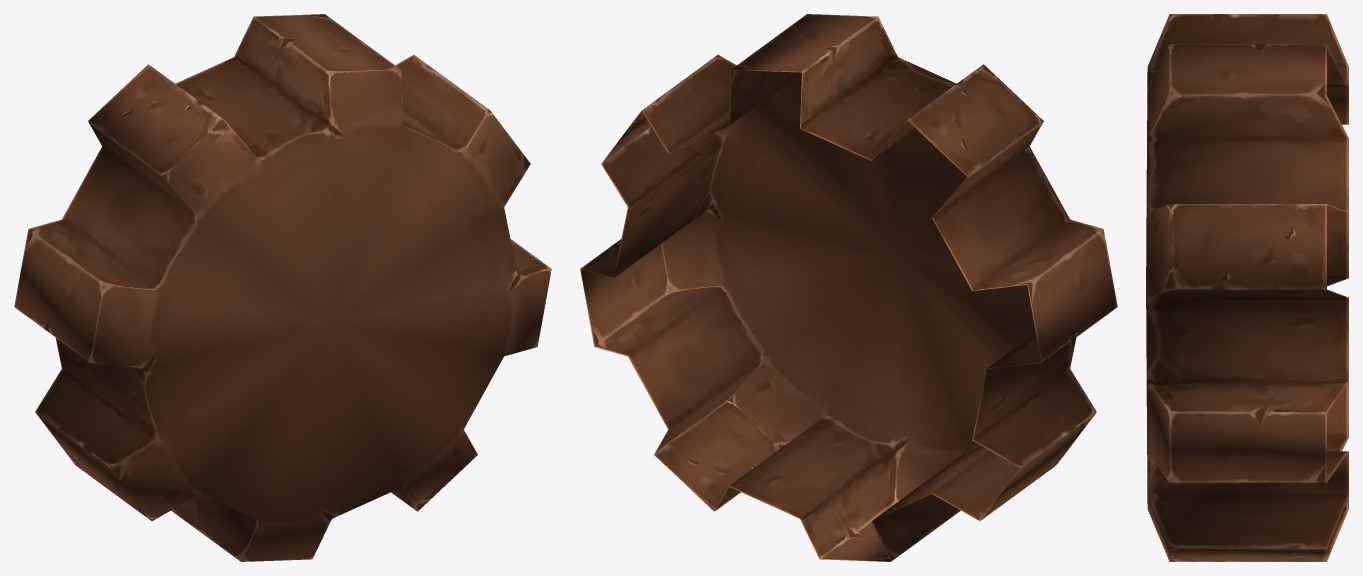
Rendered from sn_jiguan_chilun_001.FBX.
3 renders of one model, left to right at view 1: azimuth 30°, elevation 25°; view 2: azimuth 150°, elevation 25°; view 3: azimuth 270°, elevation 25°, orthographic. The views are drawn at different scales.
Parts seen in each view (by area): view 1: sn_jiguan_chilun_001; view 2: sn_jiguan_chilun_001; view 3: sn_jiguan_chilun_001.
Boxes of the visible parts, x1,y1,x2,y2 form: sn_jiguan_chilun_001: (14,14,551,561); sn_jiguan_chilun_001: (580,14,1117,561); sn_jiguan_chilun_001: (1146,14,1348,561).
Size of the model in its own units: 398 by 398 by 148.
